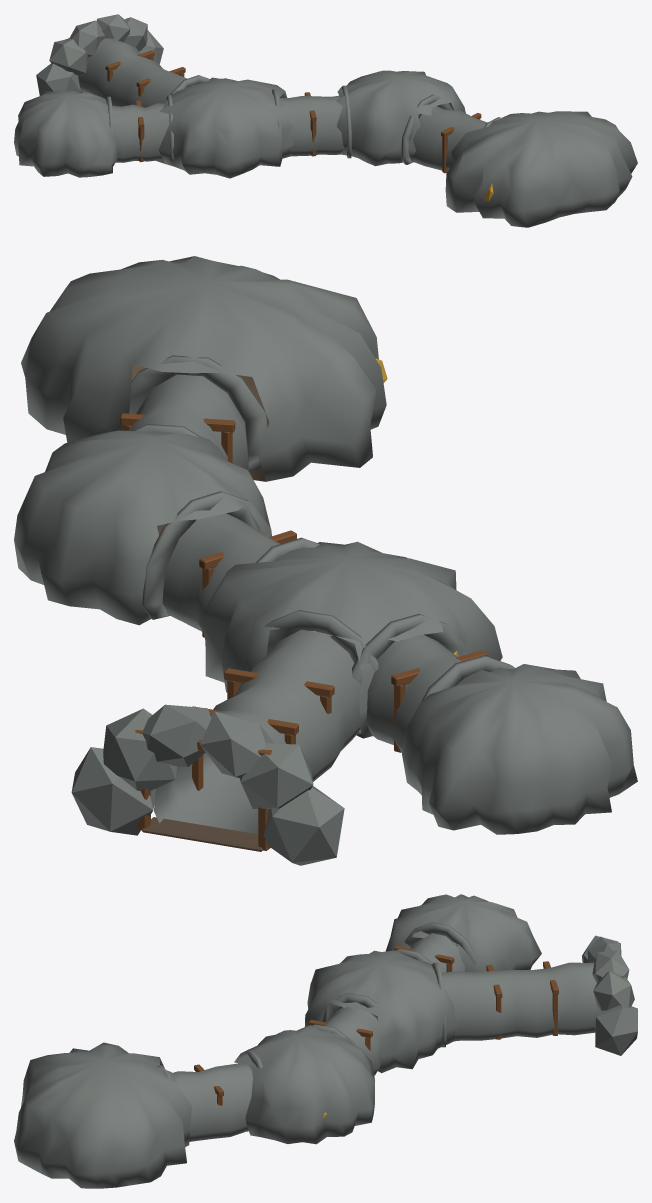
The model's file is gold_mine_greybox.glb.
The picture shows the model from 3 angles, top to bottom: view 1: azimuth 30°, elevation 25°; view 2: azimuth 150°, elevation 25°; view 3: azimuth 270°, elevation 25°; orthographic projection. The views are drawn at different scales.
Parts seen in each view (by area): view 1: ExtractionHall_Geometry, ArrivalHall_Geometry, SideChamber_Geometry, WorkChamber_Geometry, EntryTunnel_CaveShell, WorkPassage_CaveShell, SidePassage_CaveShell, ExtractionPassage_CaveShell, Entrance_FacadeRock_02, Entrance_FacadeRock_00, Entrance_FacadeRock_04, ExtractionPassage_StartCollar (+4 smaller); view 2: ExtractionHall_Geometry, SideChamber_Geometry, WorkChamber_Geometry, ArrivalHall_Geometry, EntryTunnel_CaveShell, WorkPassage_CaveShell, SidePassage_CaveShell, ExtractionPassage_CaveShell, Entrance_FacadeRock_00, Entrance_FacadeRock_01, ExtractionPassage_EndCollar, Entrance_FacadeRock_03 (+8 smaller); view 3: ExtractionHall_Geometry, WorkChamber_Geometry, ArrivalHall_Geometry, EntryTunnel_CaveShell, SideChamber_Geometry, ExtractionPassage_CaveShell, Entrance_FacadeRock_01, WorkPassage_CaveShell, Entrance_FacadeRock_03, SidePassage_CaveShell, SidePassage_EndCollar, Entrance_FacadeRock_05 (+2 smaller).
Part boxes in pixels (bbox=[...]): ExtractionHall_Geometry: bbox=[445, 111, 637, 227]; ArrivalHall_Geometry: bbox=[155, 77, 293, 178]; SideChamber_Geometry: bbox=[14, 90, 120, 177]; WorkChamber_Geometry: bbox=[335, 70, 465, 166]; EntryTunnel_CaveShell: bbox=[78, 38, 186, 107]; WorkPassage_CaveShell: bbox=[280, 95, 344, 156]; SidePassage_CaveShell: bbox=[112, 103, 169, 162]; ExtractionPassage_CaveShell: bbox=[412, 106, 487, 170]; Entrance_FacadeRock_02: bbox=[49, 38, 88, 74]; Entrance_FacadeRock_00: bbox=[36, 63, 80, 95]; Entrance_FacadeRock_04: bbox=[69, 20, 104, 57]; ExtractionPassage_StartCollar: bbox=[401, 94, 452, 164]; ExtractionHall_Geometry: bbox=[21, 256, 386, 481]; SideChamber_Geometry: bbox=[402, 664, 637, 834]; WorkChamber_Geometry: bbox=[14, 430, 270, 625]; ArrivalHall_Geometry: bbox=[200, 541, 502, 738]; EntryTunnel_CaveShell: bbox=[154, 629, 361, 834]; WorkPassage_CaveShell: bbox=[162, 513, 280, 631]; SidePassage_CaveShell: bbox=[366, 634, 461, 752]; ExtractionPassage_CaveShell: bbox=[129, 374, 248, 524]; Entrance_FacadeRock_00: bbox=[263, 786, 344, 865]; Entrance_FacadeRock_01: bbox=[71, 747, 155, 835]; ExtractionPassage_EndCollar: bbox=[113, 355, 267, 470]; Entrance_FacadeRock_03: bbox=[103, 708, 176, 790]; ExtractionHall_Geometry: bbox=[14, 1042, 191, 1188]; WorkChamber_Geometry: bbox=[234, 1025, 374, 1144]; ArrivalHall_Geometry: bbox=[305, 950, 457, 1073]; EntryTunnel_CaveShell: bbox=[441, 962, 600, 1041]; SideChamber_Geometry: bbox=[385, 894, 541, 972]; ExtractionPassage_CaveShell: bbox=[172, 1063, 252, 1141]; Entrance_FacadeRock_01: bbox=[595, 1005, 637, 1055]; WorkPassage_CaveShell: bbox=[323, 1006, 381, 1075]; Entrance_FacadeRock_03: bbox=[593, 971, 634, 1011]; SidePassage_CaveShell: bbox=[410, 933, 464, 972]; SidePassage_EndCollar: bbox=[404, 922, 478, 971]; Entrance_FacadeRock_05: bbox=[592, 950, 629, 982].
Size of the model in its own units: 53.03 by 9.06 by 55.2.
